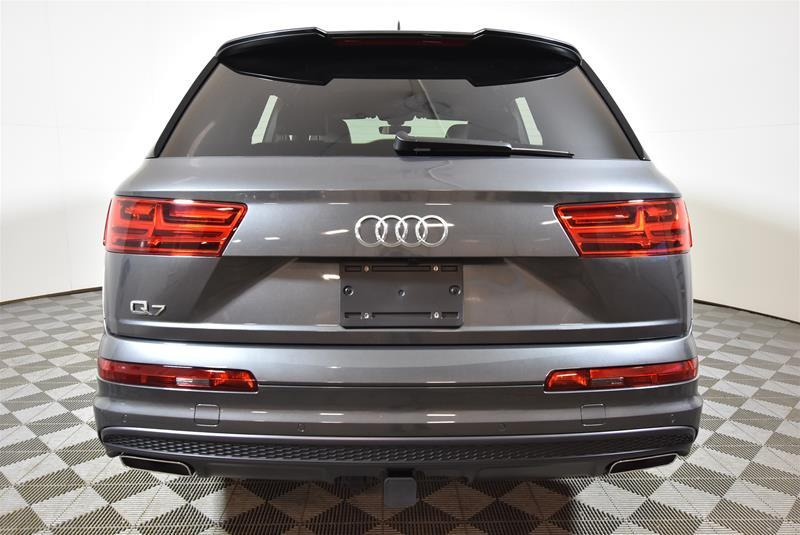audi: (331, 211, 471, 255)
